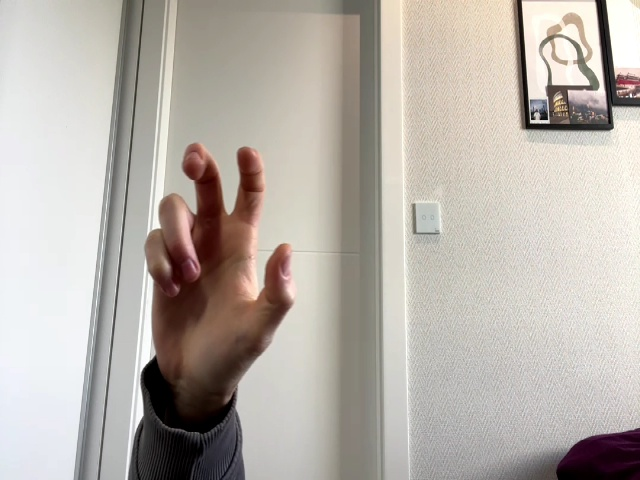CH: (144, 143, 295, 387)
